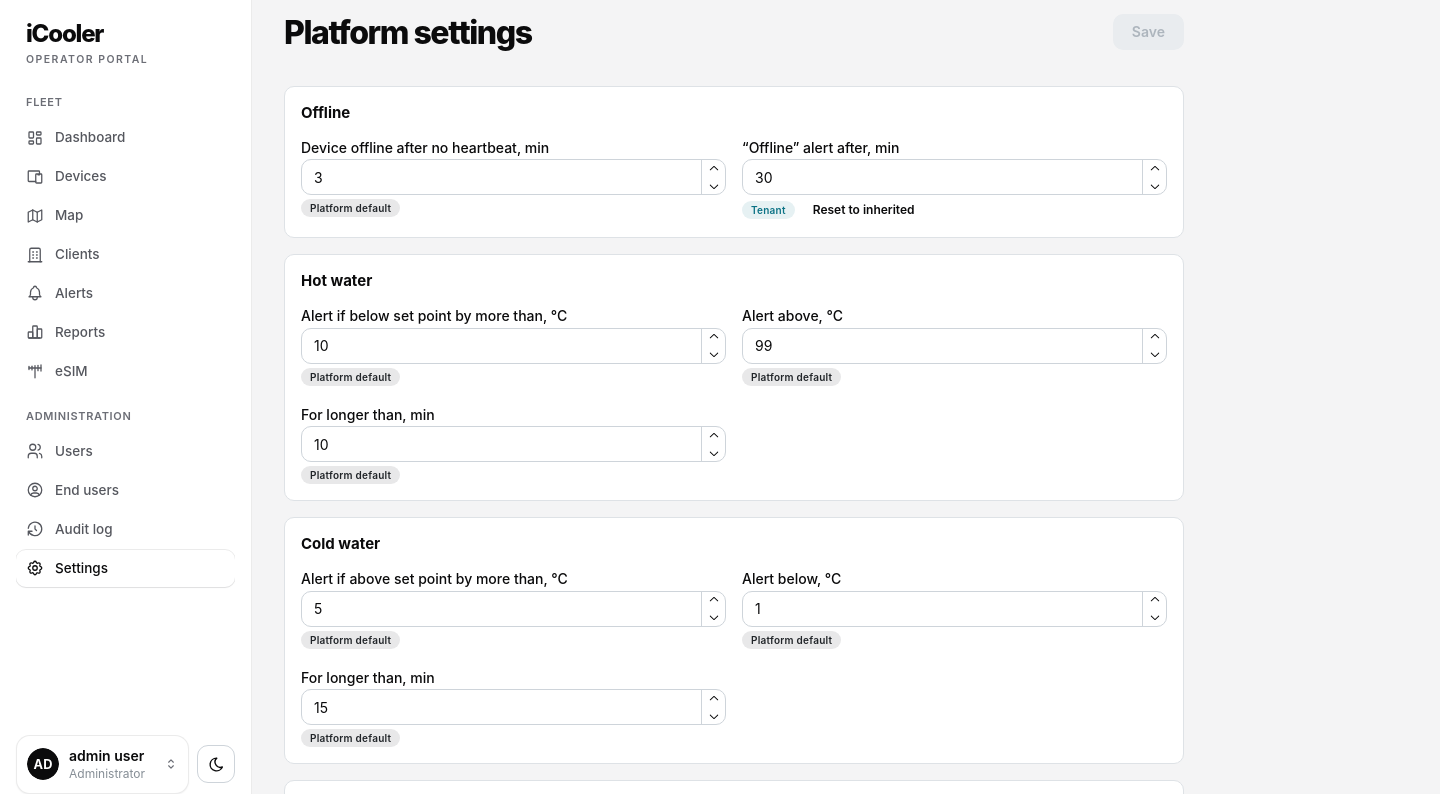
Test: настройки › уровень значения виден; «сбросить к унаследованному» шлёт null
Expected: the text "Tenant" is shown once, [751,202,786,218]
Click the button "Reset to inherited" at coordinates (864, 210), box [805,199,923,221]
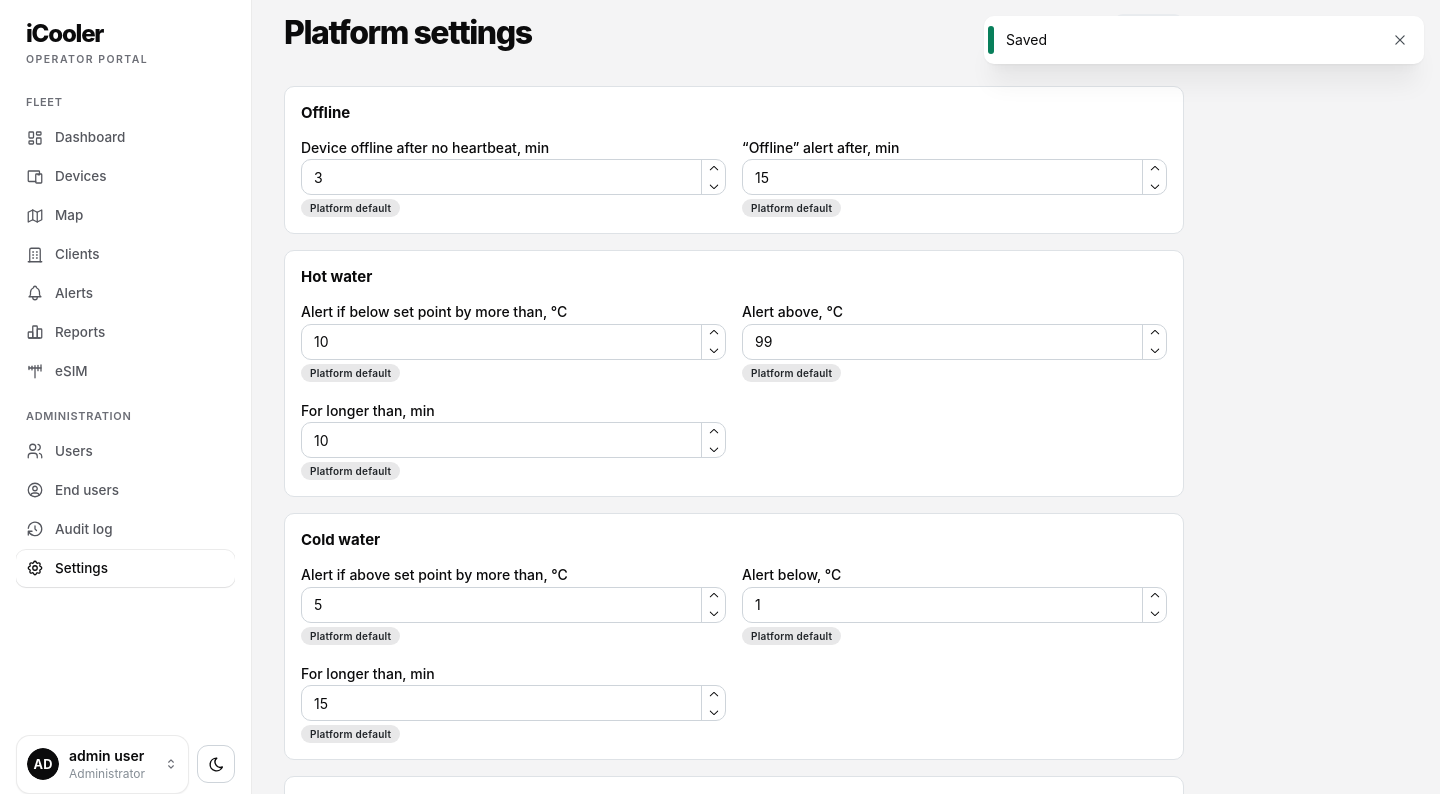
Expected: the field labelled "“Offline” alert after, min" holds "15", [742,159,1167,195]
Expected: the text "Tenant" is not shown
